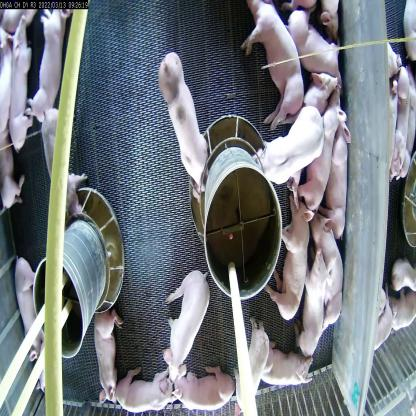Pig: (236, 1, 304, 124), (8, 244, 62, 394), (156, 52, 212, 190), (290, 85, 342, 215), (39, 102, 90, 230), (251, 105, 326, 192), (299, 203, 350, 330), (162, 264, 212, 380), (274, 186, 316, 324), (322, 113, 363, 240), (1, 17, 38, 148), (23, 8, 62, 129), (82, 301, 124, 412), (298, 229, 330, 357), (291, 9, 345, 80), (107, 359, 173, 415), (169, 360, 234, 414), (257, 348, 314, 399), (235, 323, 266, 415)
